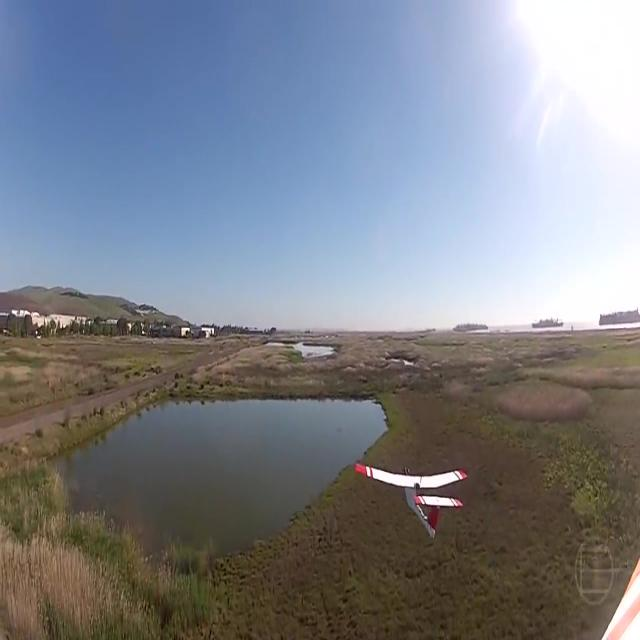iha: (386, 492, 437, 509)
